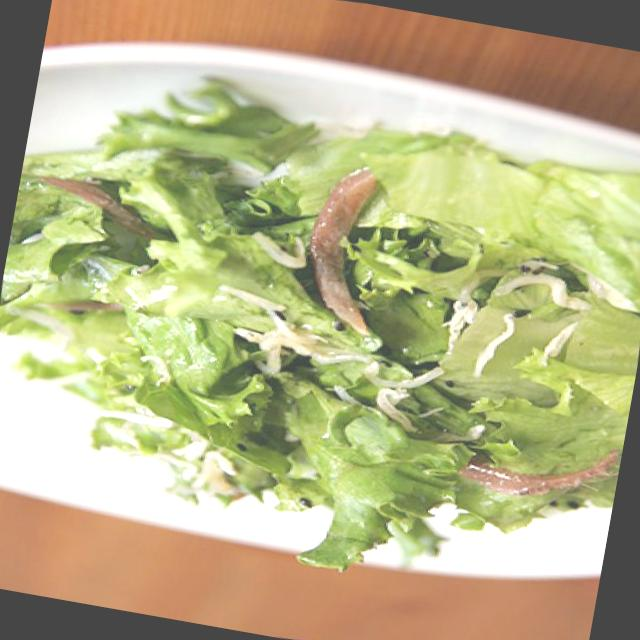Green Salad: (0, 54, 640, 598)
